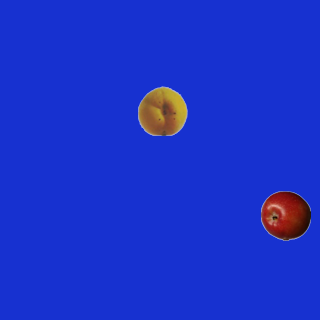Apple Braeburn: (260, 190, 310, 240)
Peach 2: (137, 85, 187, 135)
